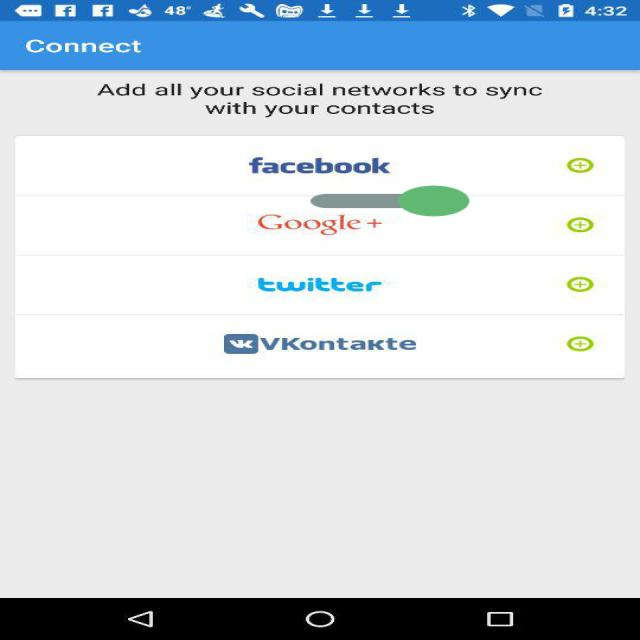social proof: (310, 167, 470, 235)
